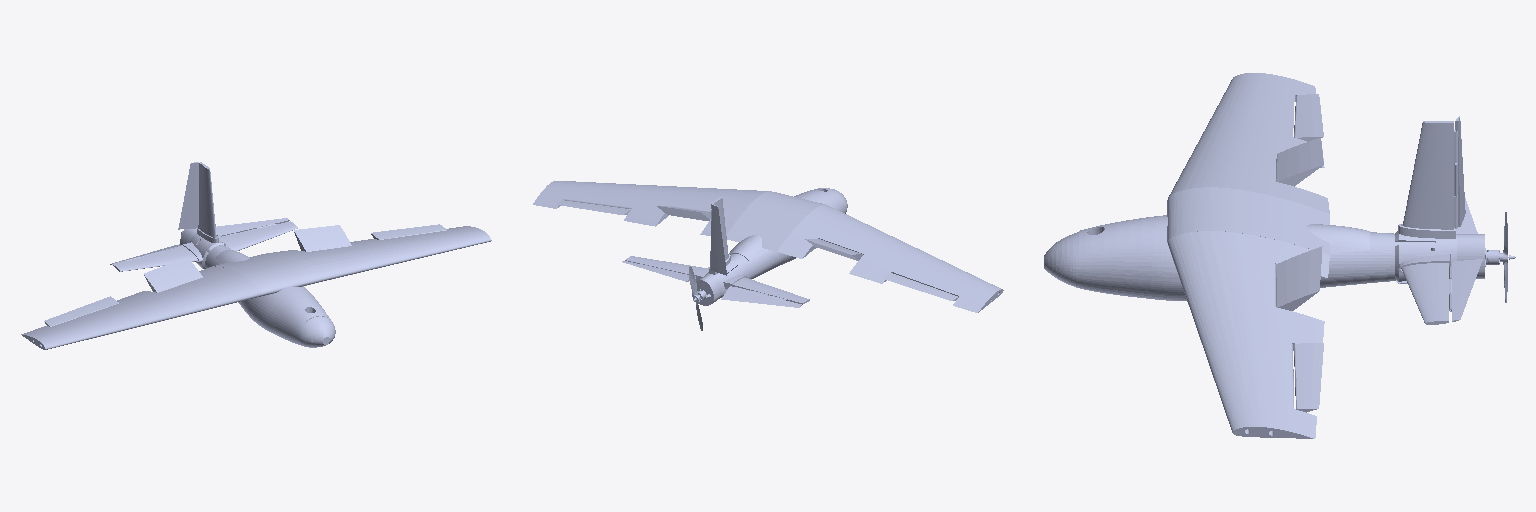
The robot description file, URDF, robot "TUNA":
<?xml version="1.0" encoding="utf-8"?>
<!-- This URDF was automatically created by SolidWorks to URDF Exporter! Originally created by [author] ([email redacted]) 
     Commit Version: 1.6.0-4-g7f85cfe  Build Version: 1.6.7995.38578
     For more information, please see http://wiki.ros.org/sw_urdf_exporter -->
<robot
  name="TUNA">
  <link
    name="base_link">
    <inertial>
      <origin
        xyz="0.69609 1.1996 1.7554"
        rpy="0 0 0" />
      <mass
        value="60.398" />
      <inertia
        ixx="2.3246"
        ixy="-0.00018391"
        ixz="-0.00054907"
        iyy="4.6684"
        iyz="-0.0053583"
        izz="2.4993" />
    </inertial>
    <visual>
      <origin
        xyz="0 0 0"
        rpy="0 0 0" />
      <geometry>
        <mesh
          filename="package://TUNA/meshes/base_link.STL" />
      </geometry>
      <material
        name="">
        <color
          rgba="0.79216 0.81961 0.93333 1" />
      </material>
    </visual>
    <collision>
      <origin
        xyz="0 0 0"
        rpy="0 0 0" />
      <geometry>
        <mesh
          filename="package://TUNA/meshes/base_link.STL" />
      </geometry>
    </collision>
  </link>
  <link
    name="spoiler1">
    <inertial>
      <origin
        xyz="0.04844 -0.0046803 0.11967"
        rpy="0 0 0" />
      <mass
        value="0.84318" />
      <inertia
        ixx="0.0044575"
        ixy="9.144E-05"
        ixz="3.8083E-05"
        iyy="0.0054363"
        iyz="1.6169E-05"
        izz="0.0011268" />
    </inertial>
    <visual>
      <origin
        xyz="0 0 0"
        rpy="0 0 0" />
      <geometry>
        <mesh
          filename="package://TUNA/meshes/spoiler1.STL" />
      </geometry>
      <material
        name="">
        <color
          rgba="0.79216 0.81961 0.93333 1" />
      </material>
    </visual>
    <collision>
      <origin
        xyz="0 0 0"
        rpy="0 0 0" />
      <geometry>
        <mesh
          filename="package://TUNA/meshes/spoiler1.STL" />
      </geometry>
    </collision>
  </link>
  <joint
    name="joint01"
    type="revolute">
    <origin
      xyz="0.97792 -1.653 1.2476"
      rpy="1.6586 0.115 1.5809" />
    <parent
      link="base_link" />
    <child
      link="spoiler1" />
    <axis
      xyz="0 0 1" />
    <limit
      lower="0.7854"
      upper="0.7854"
      effort="0.5"
      velocity="8.7" />
  </joint>
  <link
    name="airelon1">
    <inertial>
      <origin
        xyz="0.024706 -0.0035928 0.16798"
        rpy="0 0 0" />
      <mass
        value="0.34937" />
      <inertia
        ixx="0.0040197"
        ixy="1.1766E-05"
        ixz="1.6012E-05"
        iyy="0.0041281"
        iyz="1.6241E-05"
        izz="0.00012774" />
    </inertial>
    <visual>
      <origin
        xyz="0 0 0"
        rpy="0 0 0" />
      <geometry>
        <mesh
          filename="package://TUNA/meshes/airelon1.STL" />
      </geometry>
      <material
        name="">
        <color
          rgba="0.79216 0.81961 0.93333 1" />
      </material>
    </visual>
    <collision>
      <origin
        xyz="0 0 0"
        rpy="0 0 0" />
      <geometry>
        <mesh
          filename="package://TUNA/meshes/airelon1.STL" />
      </geometry>
    </collision>
  </link>
  <joint
    name="joint02"
    type="revolute">
    <origin
      xyz="1.4064 -1.6027 1.2002"
      rpy="1.659 0.14418 1.5835" />
    <parent
      link="base_link" />
    <child
      link="airelon1" />
    <axis
      xyz="0 0 1" />
    <limit
      lower="0.436"
      upper="0.436"
      effort="0.5"
      velocity="8.7" />
  </joint>
  <link
    name="spoiler2">
    <inertial>
      <origin
        xyz="0.04844 -0.0046803 0.13439"
        rpy="0 0 0" />
      <mass
        value="0.84318" />
      <inertia
        ixx="0.0044575"
        ixy="9.1441E-05"
        ixz="-3.8078E-05"
        iyy="0.0054363"
        iyz="-1.6167E-05"
        izz="0.0011268" />
    </inertial>
    <visual>
      <origin
        xyz="0 0 0"
        rpy="0 0 0" />
      <geometry>
        <mesh
          filename="package://TUNA/meshes/spoiler2.STL" />
      </geometry>
      <material
        name="">
        <color
          rgba="0.79216 0.81961 0.93333 1" />
      </material>
    </visual>
    <collision>
      <origin
        xyz="0 0 0"
        rpy="0 0 0" />
      <geometry>
        <mesh
          filename="package://TUNA/meshes/spoiler2.STL" />
      </geometry>
    </collision>
  </link>
  <joint
    name="joint03"
    type="revolute">
    <origin
      xyz="0.16163 -1.653 1.2255"
      rpy="1.4823 0.16625 1.5561" />
    <parent
      link="base_link" />
    <child
      link="spoiler2" />
    <axis
      xyz="0 0 1" />
    <limit
      lower="0.7854"
      upper="0.7854"
      effort="0.5"
      velocity="8.7" />
  </joint>
  <link
    name="airelon2">
    <inertial>
      <origin
        xyz="0.024307 -0.0035315 -0.077345"
        rpy="0 0 0" />
      <mass
        value="0.35543" />
      <inertia
        ixx="0.0040977"
        ixy="1.2239E-05"
        ixz="-1.7322E-05"
        iyy="0.0042089"
        iyz="-1.5859E-05"
        izz="0.00013076" />
    </inertial>
    <visual>
      <origin
        xyz="0 0 0"
        rpy="0 0 0" />
      <geometry>
        <mesh
          filename="package://TUNA/meshes/airelon2.STL" />
      </geometry>
      <material
        name="">
        <color
          rgba="0.79216 0.81961 0.93333 1" />
      </material>
    </visual>
    <collision>
      <origin
        xyz="0 0 0"
        rpy="0 0 0" />
      <geometry>
        <mesh
          filename="package://TUNA/meshes/airelon2.STL" />
      </geometry>
    </collision>
  </link>
  <joint
    name="joint04"
    type="revolute">
    <origin
      xyz="-0.10431 -1.6027 1.1923"
      rpy="1.4826 0.14404 1.5581" />
    <parent
      link="base_link" />
    <child
      link="airelon2" />
    <axis
      xyz="0 0 1" />
    <limit
      lower="0.436"
      upper="0.436"
      effort="0.5"
      velocity="8.7" />
  </joint>
  <link
    name="rudder">
    <inertial>
      <origin
        xyz="0.030744 6.9032E-09 0.12515"
        rpy="0 0 0" />
      <mass
        value="0.22002" />
      <inertia
        ixx="0.0017147"
        ixy="-1.1029E-10"
        ixz="0.00011219"
        iyy="0.0018008"
        iyz="3.979E-11"
        izz="9.2264E-05" />
    </inertial>
    <visual>
      <origin
        xyz="0 0 0"
        rpy="0 0 0" />
      <geometry>
        <mesh
          filename="package://TUNA/meshes/rudder.STL" />
      </geometry>
      <material
        name="">
        <color
          rgba="0.79216 0.81961 0.93333 1" />
      </material>
    </visual>
    <collision>
      <origin
        xyz="0 0 0"
        rpy="0 0 0" />
      <geometry>
        <mesh
          filename="package://TUNA/meshes/rudder.STL" />
      </geometry>
    </collision>
  </link>
  <joint
    name="joint05"
    type="revolute">
    <origin
      xyz="0.69632 -1.1374 1.2541"
      rpy="0 0 2.3499" />
    <parent
      link="base_link" />
    <child
      link="rudder" />
    <axis
      xyz="0 0 1" />
    <limit
      lower="0.524"
      upper="0.524"
      effort="0.5"
      velocity="8.7" />
  </joint>
  <link
    name="elevator1">
    <inertial>
      <origin
        xyz="0.027063 -1.5698E-07 0.1307"
        rpy="0 0 0" />
      <mass
        value="0.19012" />
      <inertia
        ixx="0.0017826"
        ixy="1.2066E-09"
        ixz="0.0001122"
        iyy="0.0018472"
        iyz="5.1022E-10"
        izz="6.8988E-05" />
    </inertial>
    <visual>
      <origin
        xyz="0 0 0"
        rpy="0 0 0" />
      <geometry>
        <mesh
          filename="package://TUNA/meshes/elevator1.STL" />
      </geometry>
      <material
        name="">
        <color
          rgba="0.79216 0.81961 0.93333 1" />
      </material>
    </visual>
    <collision>
      <origin
        xyz="0 0 0"
        rpy="0 0 0" />
      <geometry>
        <mesh
          filename="package://TUNA/meshes/elevator1.STL" />
      </geometry>
    </collision>
  </link>
  <joint
    name="joint06"
    type="revolute">
    <origin
      xyz="0.79132 -1.1531 1.1784"
      rpy="1.5708 0.31262 1.5708" />
    <parent
      link="base_link" />
    <child
      link="elevator1" />
    <axis
      xyz="0 0 1" />
    <limit
      lower="0.524"
      upper="0.524"
      effort="0.5"
      velocity="8.7" />
  </joint>
  <link
    name="elevator2">
    <inertial>
      <origin
        xyz="0.027055 1.5287E-08 0.25931"
        rpy="0 0 0" />
      <mass
        value="0.19009" />
      <inertia
        ixx="0.0017824"
        ixy="-1.1876E-11"
        ixz="-0.00011221"
        iyy="0.001847"
        iyz="-1.0024E-11"
        izz="6.8951E-05" />
    </inertial>
    <visual>
      <origin
        xyz="0 0 0"
        rpy="0 0 0" />
      <geometry>
        <mesh
          filename="package://TUNA/meshes/elevator2.STL" />
      </geometry>
      <material
        name="">
        <color
          rgba="0.79216 0.81961 0.93333 1" />
      </material>
    </visual>
    <collision>
      <origin
        xyz="0 0 0"
        rpy="0 0 0" />
      <geometry>
        <mesh
          filename="package://TUNA/meshes/elevator2.STL" />
      </geometry>
    </collision>
  </link>
  <joint
    name="joint07"
    type="revolute">
    <origin
      xyz="0.21132 -1.1531 1.1784"
      rpy="1.5708 0.82316 1.5708" />
    <parent
      link="base_link" />
    <child
      link="elevator2" />
    <axis
      xyz="0 0 1" />
    <limit
      lower="0.524"
      upper="0.524"
      effort="0.5"
      velocity="8.7" />
  </joint>
  <link
    name="propeller">
    <inertial>
      <origin
        xyz="-0.000101 0.014021 1.4977E-05"
        rpy="0 0 0" />
      <mass
        value="0.029829" />
      <inertia
        ixx="1.554E-06"
        ixy="6.9935E-10"
        ixz="2.3055E-06"
        iyy="0.0001323"
        iyz="-1.0873E-10"
        izz="0.0001314" />
    </inertial>
    <visual>
      <origin
        xyz="0 0 0"
        rpy="0 0 0" />
      <geometry>
        <mesh
          filename="package://TUNA/meshes/propeller.STL" />
      </geometry>
      <material
        name="">
        <color
          rgba="0.79216 0.81961 0.93333 1" />
      </material>
    </visual>
    <collision>
      <origin
        xyz="0 0 0"
        rpy="0 0 0" />
      <geometry>
        <mesh
          filename="package://TUNA/meshes/propeller.STL" />
      </geometry>
    </collision>
  </link>
  <joint
    name="joint08"
    type="continuous">
    <origin
      xyz="0.69632 -0.97874 1.1591"
      rpy="3.1416 -1.3738 0" />
    <parent
      link="base_link" />
    <child
      link="propeller" />
    <axis
      xyz="0 1 0" />
    <limit
      lower="0"
      upper="0"
      effort="1"
      velocity="1047" />
  </joint>
</robot>

--- Render facts (derived) ---
3 views of the same robot in one strip: view 1: azimuth 30°, elevation 25°; view 2: azimuth 150°, elevation 25°; view 3: azimuth 270°, elevation 25° (orthographic).
Robot: TUNA — 9 links, 8 joints (7 revolute, 1 continuous); root link base_link; default pose: joints at zero except 7 at the middle of their limits (joint01 = 0.7854, joint02 = 0.436, joint03 = 0.7854, joint04 = 0.436, joint05 = 0.524, joint06 = 0.524, +1 more).
Visible links, largest first — view 1: base_link, spoiler2, spoiler1, rudder, airelon2, airelon1, elevator1; view 2: base_link, rudder, elevator2, airelon2; view 3: base_link, spoiler1, airelon1, spoiler2, elevator1, airelon2, rudder.
Boxes of the visible links, bbox=[...] form: base_link: bbox=[21, 162, 491, 349]; spoiler2: bbox=[144, 257, 202, 292]; spoiler1: bbox=[294, 225, 351, 251]; rudder: bbox=[178, 162, 198, 229]; airelon2: bbox=[44, 296, 118, 326]; airelon1: bbox=[371, 224, 446, 239]; elevator1: bbox=[216, 218, 289, 236]; base_link: bbox=[533, 181, 1003, 312]; rudder: bbox=[711, 204, 726, 275]; elevator2: bbox=[721, 286, 801, 307]; airelon2: bbox=[883, 273, 958, 300]; base_link: bbox=[1044, 73, 1515, 438]; spoiler1: bbox=[1276, 246, 1322, 310]; airelon1: bbox=[1294, 343, 1323, 412]; spoiler2: bbox=[1276, 138, 1323, 186]; elevator1: bbox=[1449, 259, 1482, 321]; airelon2: bbox=[1294, 94, 1323, 141]; rudder: bbox=[1454, 116, 1465, 226].
Bounding box of the posed robot: 2.44 × 1.37 × 0.5975 m (x, y, z).
9 mesh visuals loaded from 9 distinct referenced files (9 binary STL).